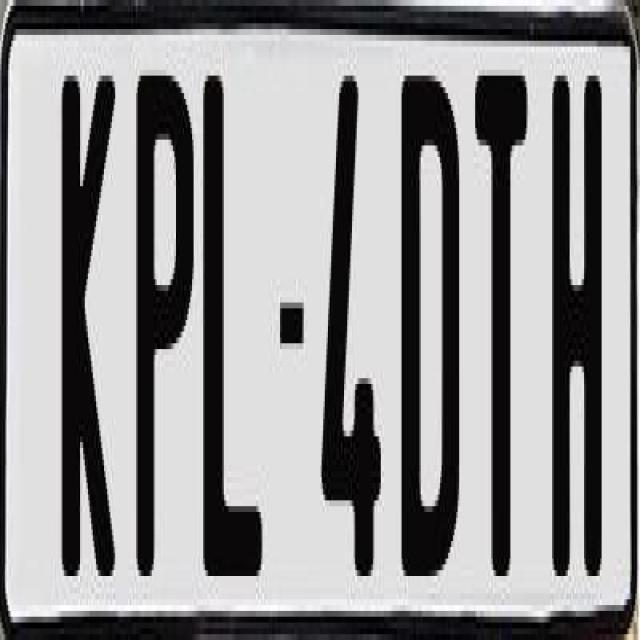4: (318, 70, 382, 594)
D: (397, 70, 461, 576)
H: (550, 76, 610, 576)
K: (58, 70, 116, 576)
L: (202, 76, 264, 612)
P: (134, 58, 193, 564)
T: (474, 63, 524, 600)
